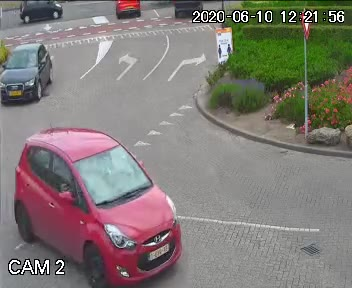car: (12, 123, 188, 281), (0, 41, 59, 107), (16, 0, 69, 23), (170, 0, 205, 20), (110, 0, 139, 18)
